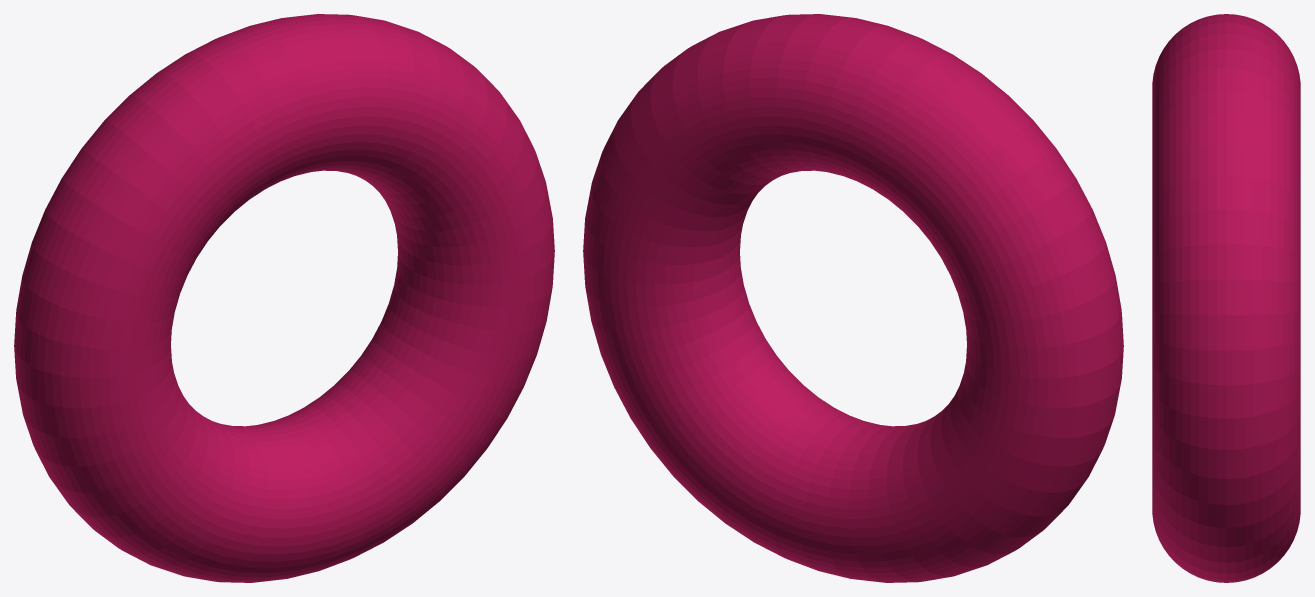
3 views of the same model, side by side, from view 1: azimuth 30°, elevation 25°; view 2: azimuth 150°, elevation 25°; view 3: azimuth 270°, elevation 25° (orthographic). The views are drawn at different scales.
Parts seen in each view (by area): view 1: world; view 2: world; view 3: world.
Part boxes in pixels (left/top/right/bottom): world: left=14, top=14, right=554, bottom=582; world: left=583, top=14, right=1123, bottom=582; world: left=1152, top=14, right=1300, bottom=582.
Bounding box in the file's own units: 35.2 × 35.13 × 9.18.
